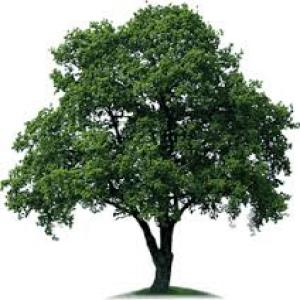Tree: (2, 1, 294, 291)
